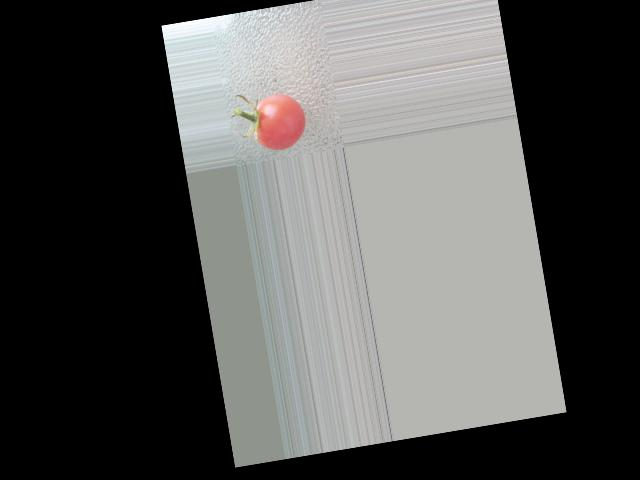tomato: (250, 88, 310, 152)
